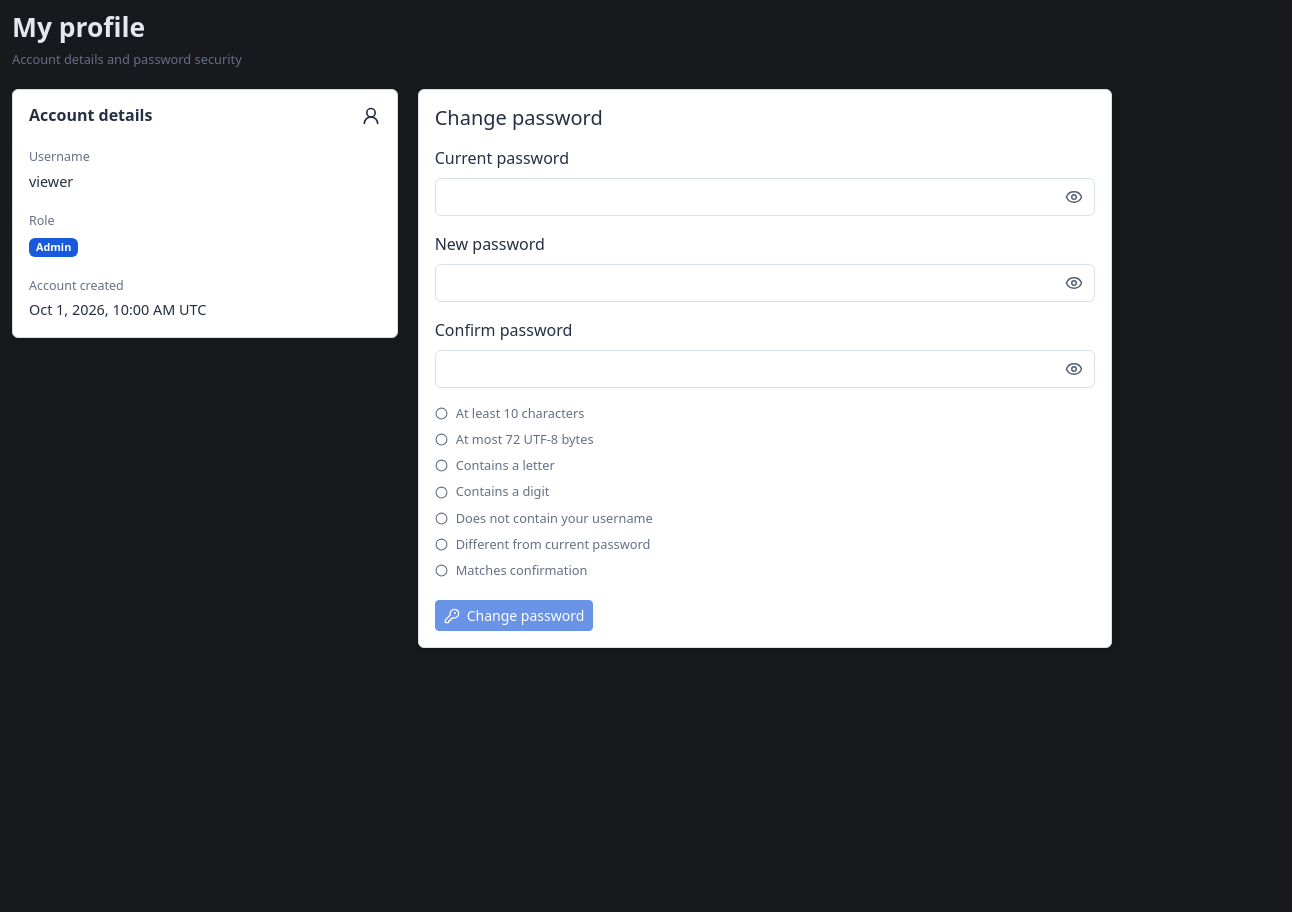
Test case: shows only the signed-in admin profile and replaces the token after a change
expect the text "viewer" is shown: met, box 29,172 -> 73,191
expect the text "Admin" is shown: met, box 29,238 -> 78,257
Step 1. Type "CurrentPass123" into the password field labelled "Current password" → {"x": 765, "y": 197}, box 435,178 -> 1095,216
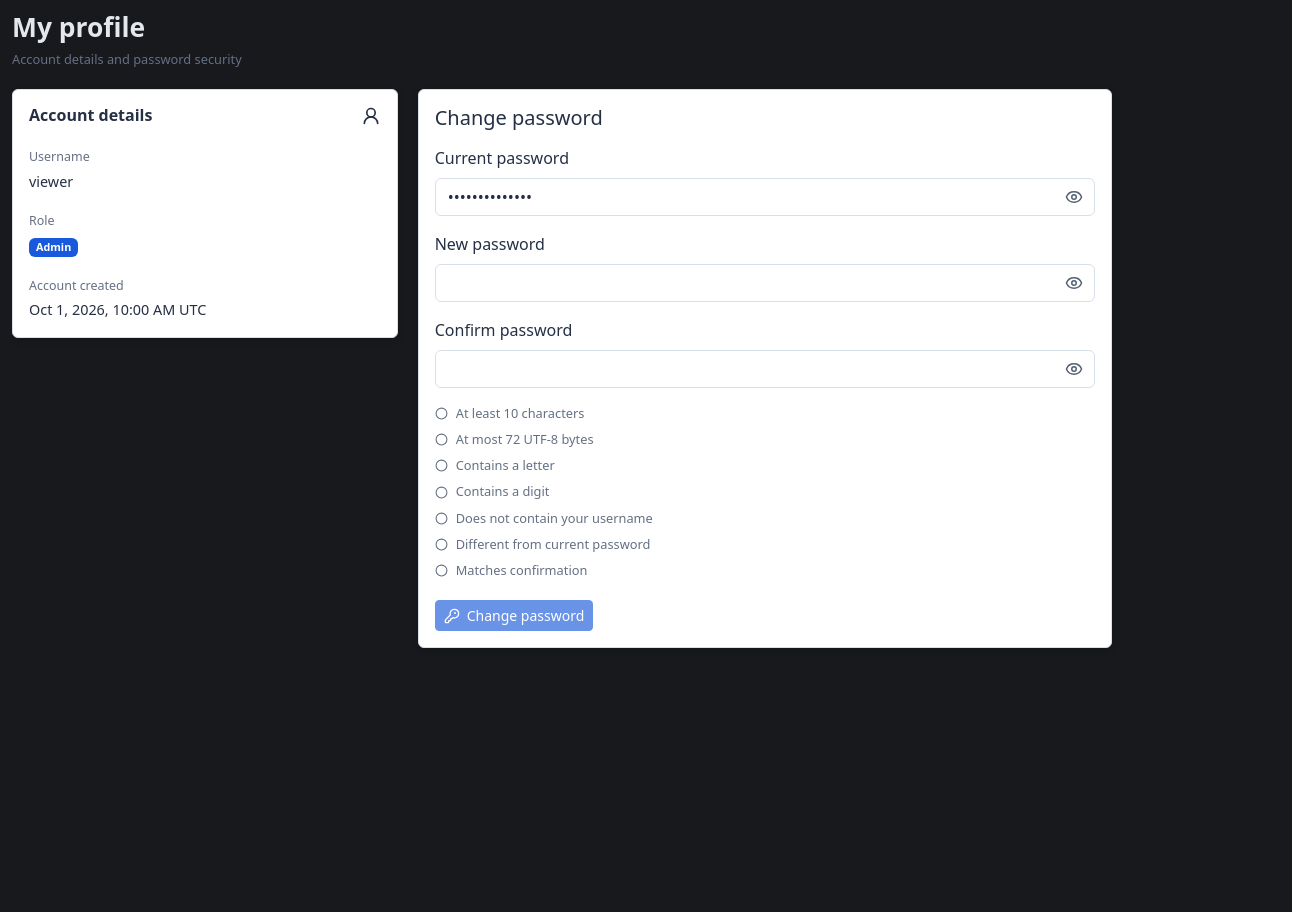
Step 2. Type "Replacement5678" into the password field labelled "New password" → {"x": 765, "y": 283}, box 435,264 -> 1095,302
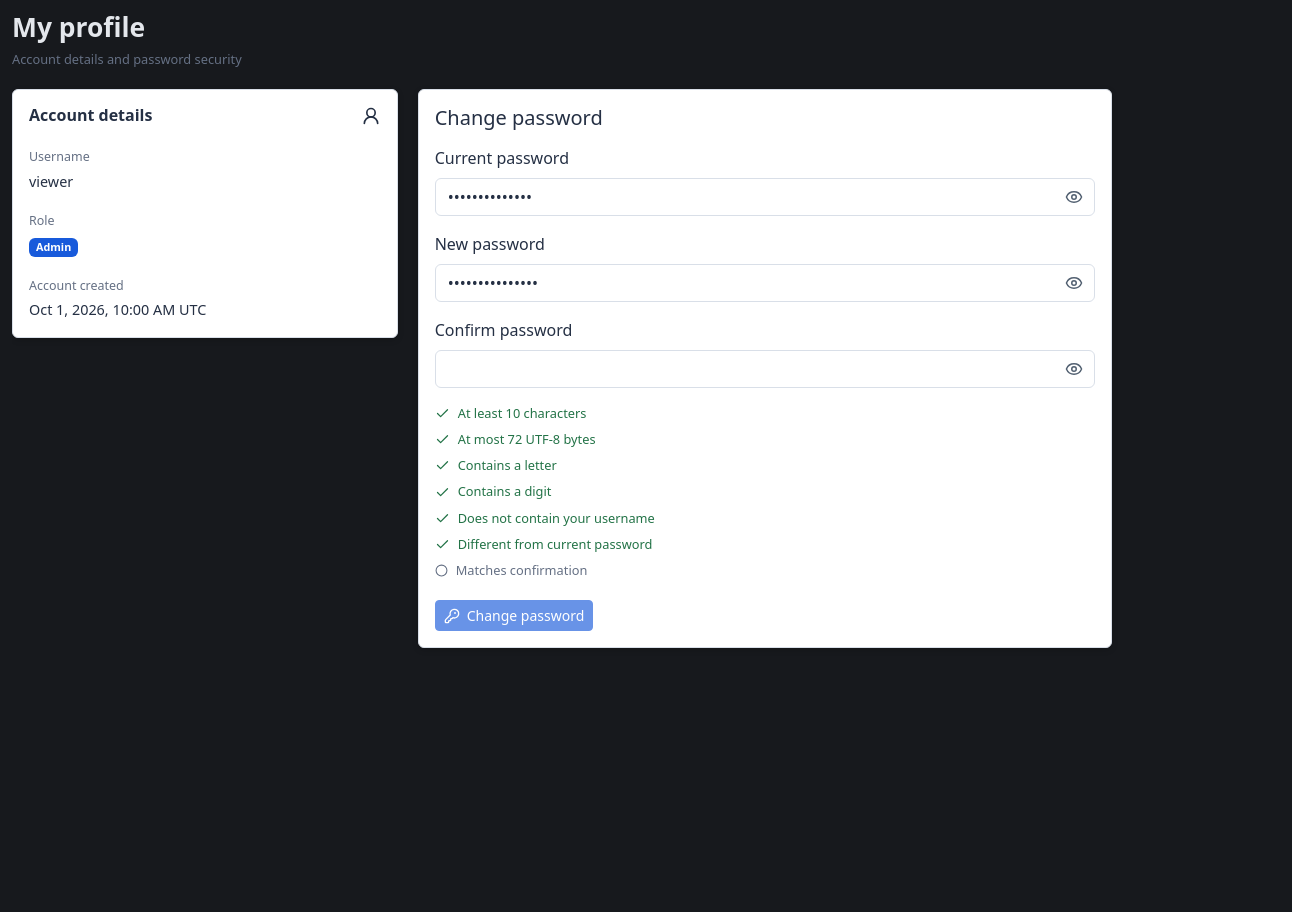
Step 3. Type "Replacement5678" into the password field labelled "Confirm password" → {"x": 765, "y": 369}, box 435,350 -> 1095,388
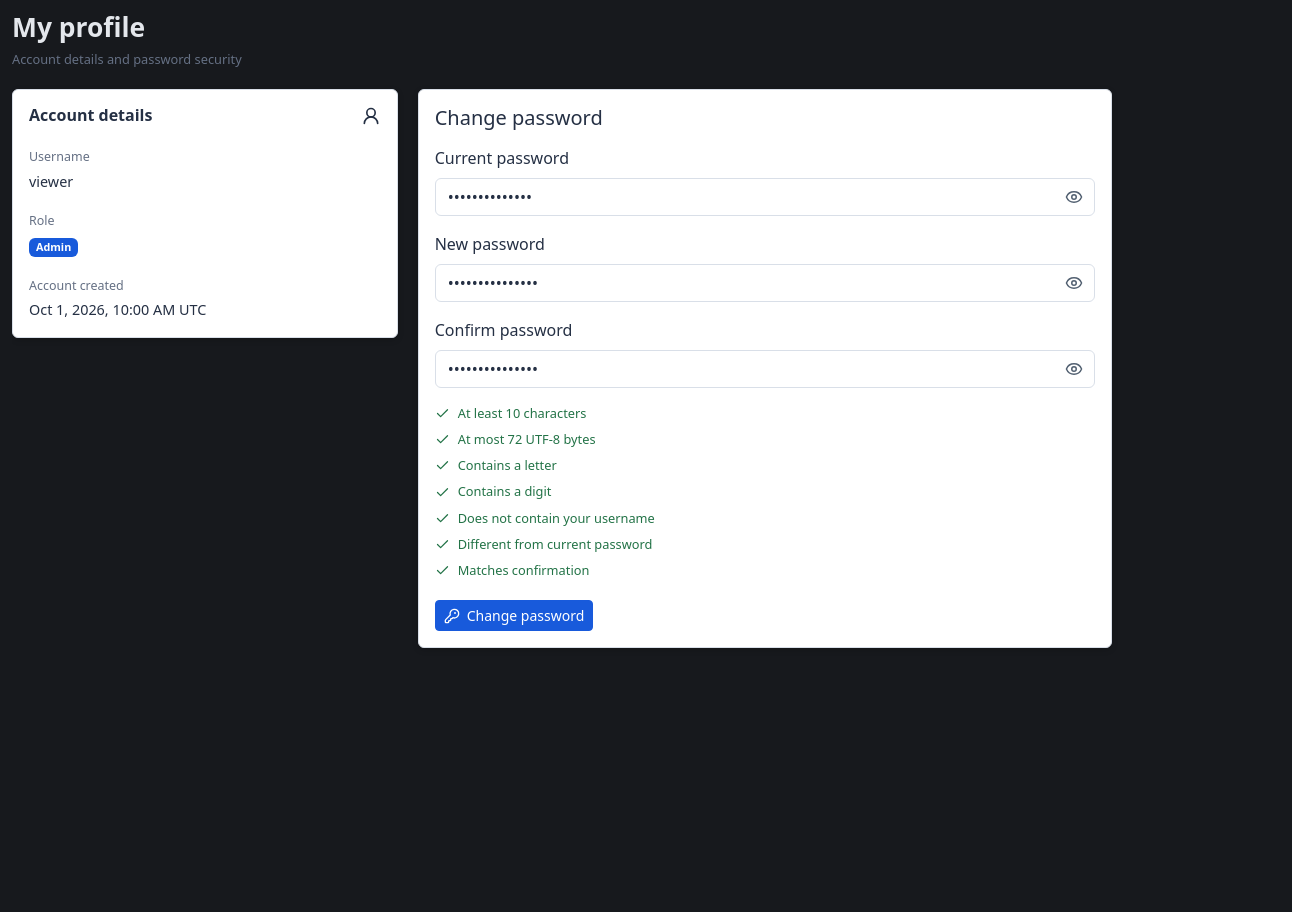
expect the button "Change password" is enabled: met
Step 4. Click the button "Change password" → {"x": 514, "y": 616}, box 435,600 -> 593,631
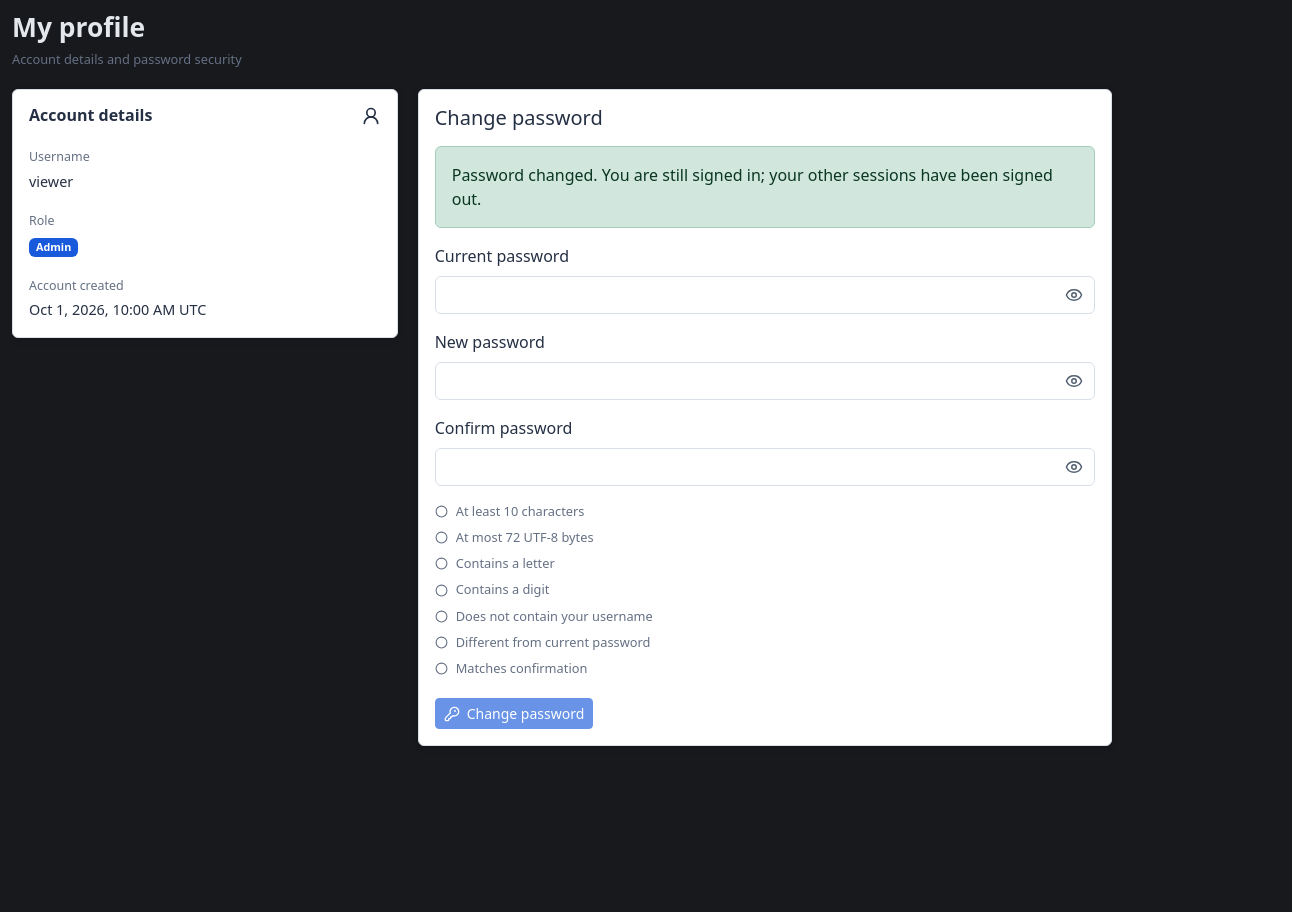
expect the message shows "You are still signed in": met, box 452,164 -> 1053,210
expect the password field labelled "Current password" is empty: met, box 435,276 -> 1095,314
expect the password field labelled "New password" is empty: met, box 435,362 -> 1095,400
